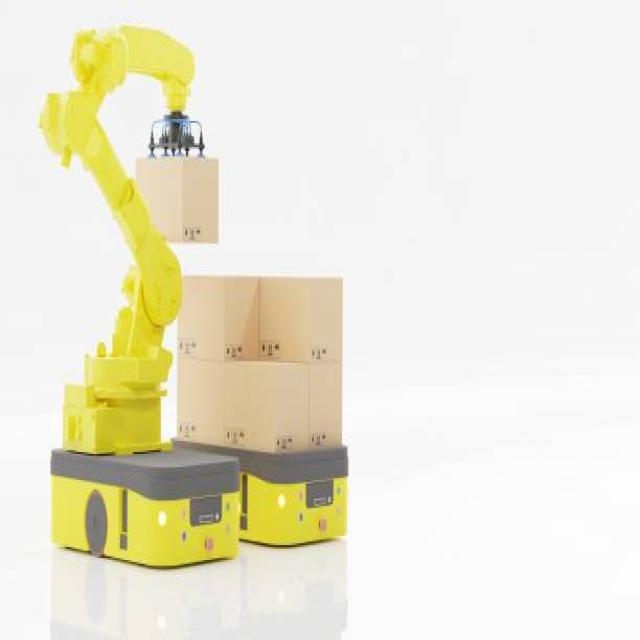Robotic-arm: (18, 11, 239, 574)
